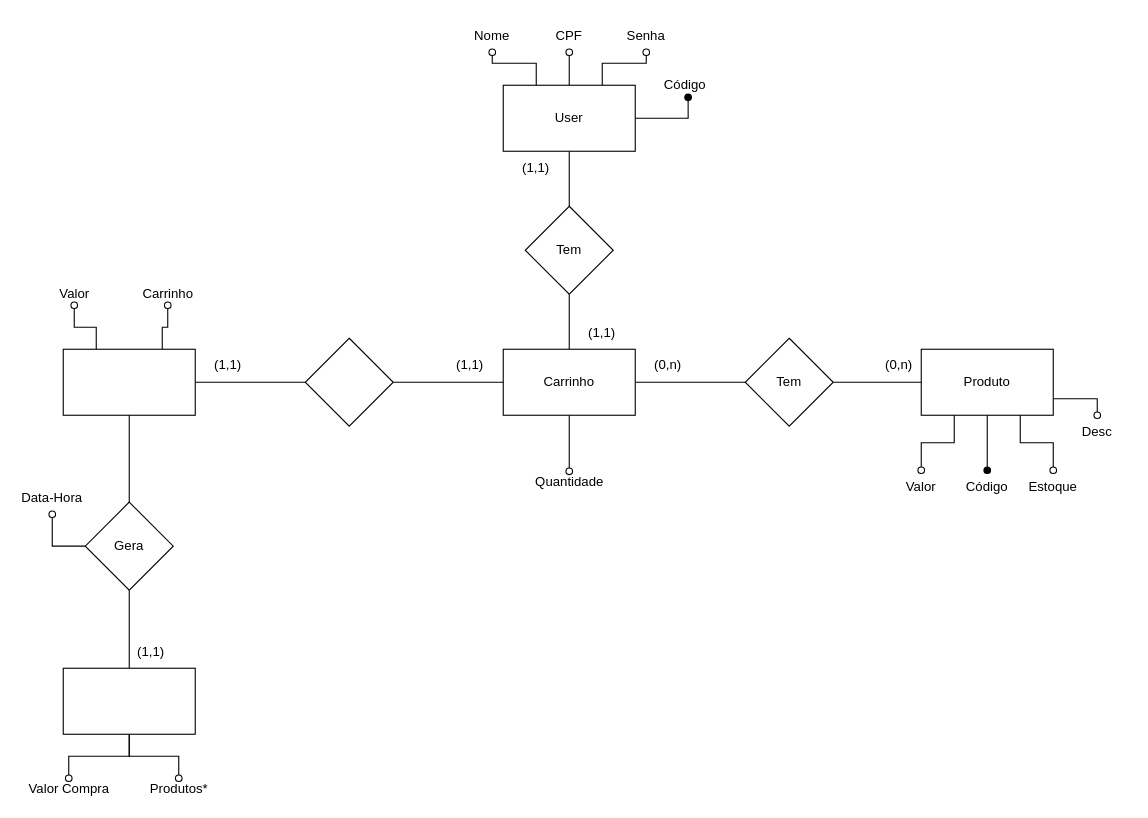
This 1148x818 diagram has some shape labels left out. Each missing label, with the box of its shape:
Compra: (62, 348, 195, 415)
Finaliza: (304, 337, 393, 426)
Relatório: (62, 667, 195, 734)
